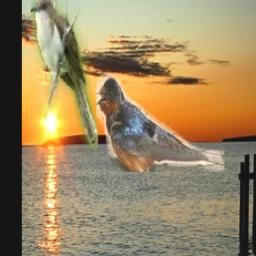Cuckoo: (31, 0, 98, 150)
Swallow: (95, 74, 223, 172)
